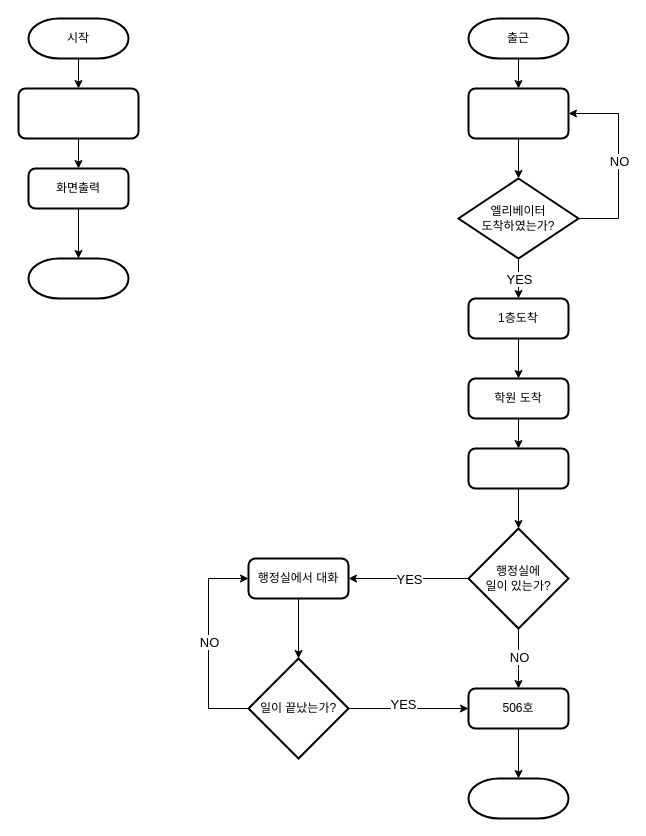
This 646x836 diagram has some shape labels left out. The centre of each missing label's shape, as x and y in pixels:
datebase 게시글 정보 획득: (x=78, y=113)
엘리베이터 탑승 대기: (x=518, y=113)
종료: (x=78, y=278)
퇴근: (x=518, y=798)
행정실 도착: (x=518, y=468)
